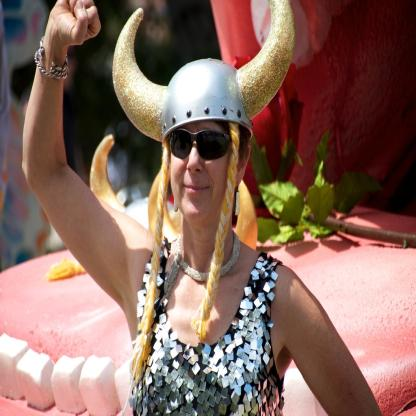Helmet: (110, 0, 296, 416)
